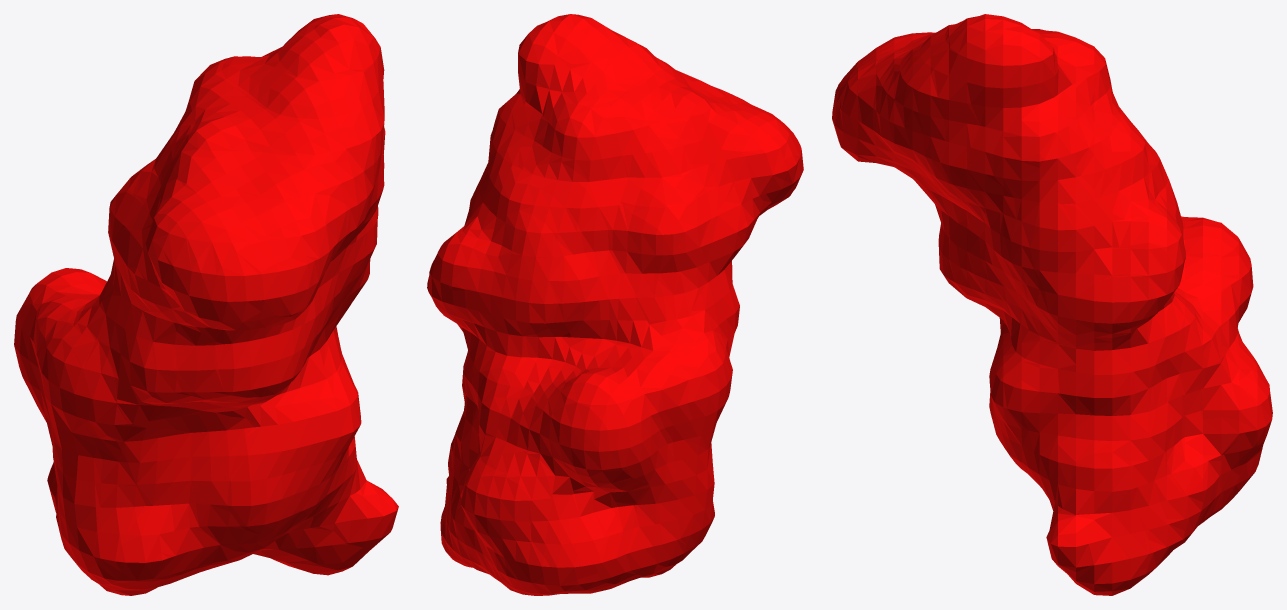
Rendered from yicC_coarse.dae.
3 views of the same model, side by side, from view 1: azimuth 30°, elevation 25°; view 2: azimuth 150°, elevation 25°; view 3: azimuth 270°, elevation 25° (orthographic). The views are drawn at different scales.
Visible parts, largest first — view 1: yicC; view 2: yicC; view 3: yicC.
Boxes of the visible parts, bbox=[...] form: yicC: bbox=[14, 14, 398, 595]; yicC: bbox=[427, 14, 803, 595]; yicC: bbox=[832, 14, 1272, 595].
Bounding box in the file's own units: 43.58 × 76.37 × 55.26.
